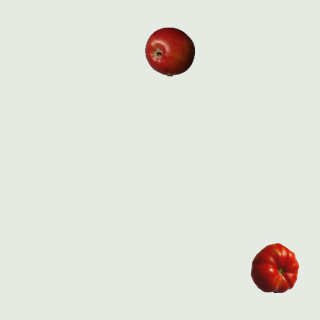Apple Braeburn: (144, 26, 194, 76)
Tomato 3: (249, 242, 299, 292)
